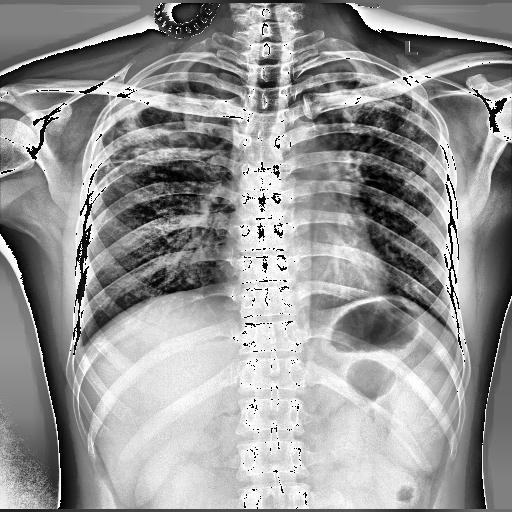11- Pleural thickening: (298, 52, 390, 78)
13- Pulmonary fibrosis: (318, 63, 450, 250), (95, 62, 243, 216), (92, 60, 237, 216)
6- Infiltration: (318, 63, 450, 250), (95, 62, 243, 216), (92, 60, 237, 216), (300, 65, 444, 217), (302, 58, 440, 216), (102, 72, 234, 208)
9- Other lesion: (126, 101, 176, 132)
